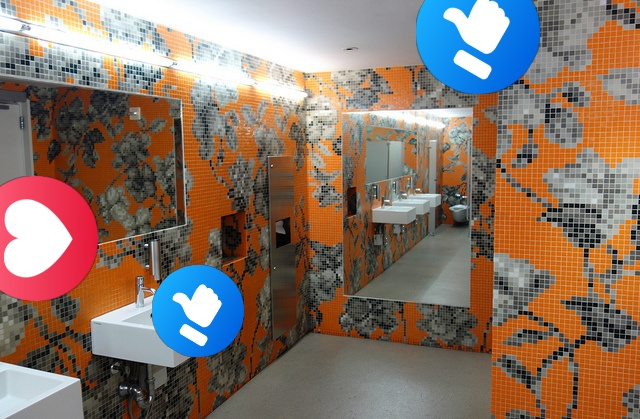like: (416, 0, 540, 94), (152, 265, 244, 357)
love: (0, 176, 98, 301)
